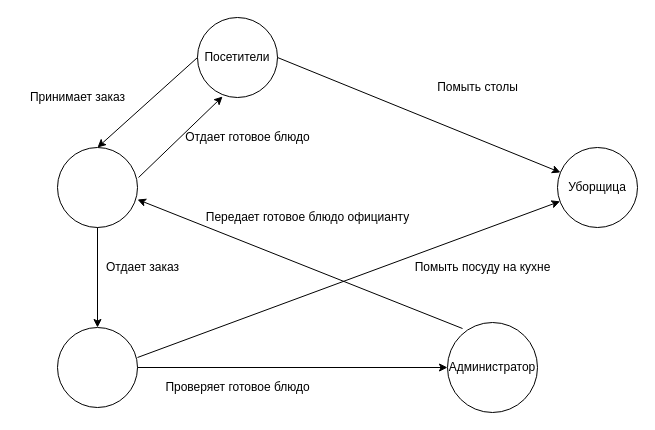
Some shapes in this 655 by 430 pixel diagram are drawn without their labels. The box of each missing label's shape, as (x1, y1, x2, y2) in pixels:
Официант: (56, 146, 138, 228)
Шеф-Повар: (56, 326, 138, 408)
